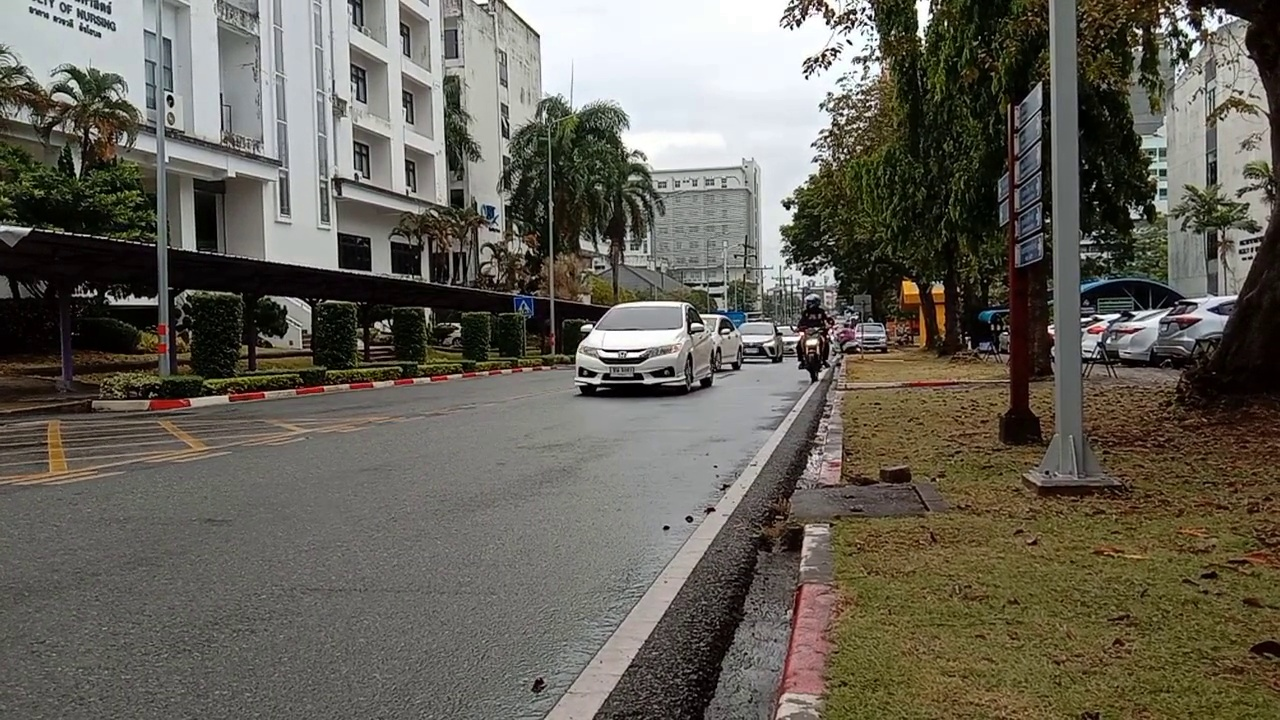License Plate: (607, 365, 632, 380)
